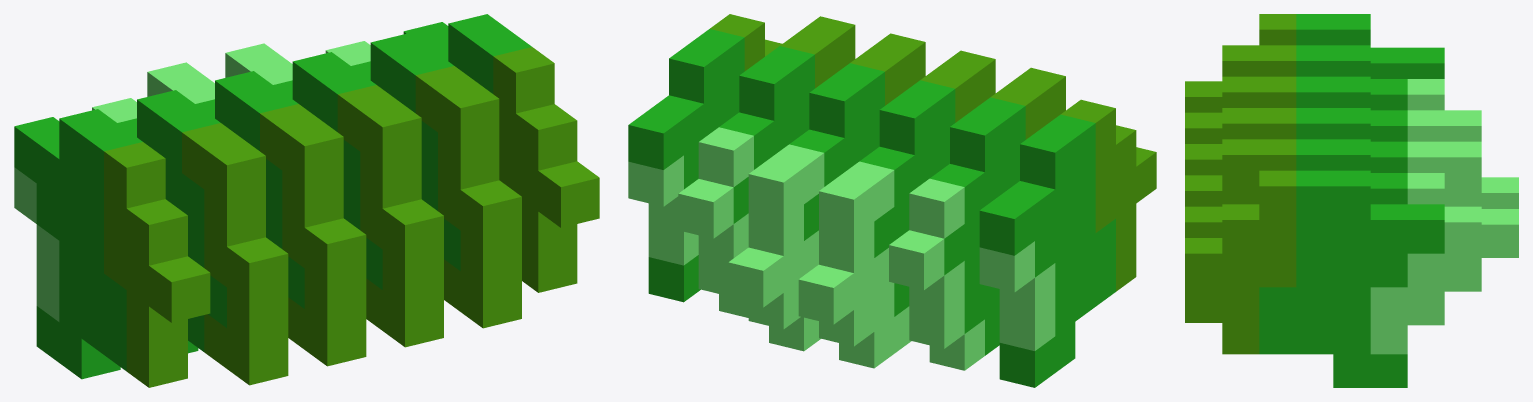
The model's file is lechuga_cortada.obj.
3 renders of one model, left to right at view 1: azimuth 30°, elevation 25°; view 2: azimuth 150°, elevation 25°; view 3: azimuth 270°, elevation 25°, orthographic. The views are drawn at different scales.
Bounding box in the file's own units: 1.1 × 0.6 × 0.9.
